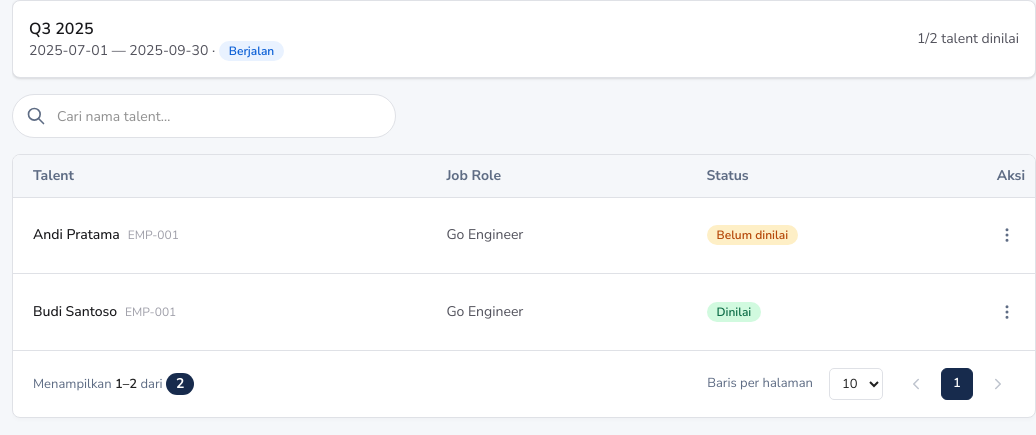
Test: EvaluationsPage roster (Apollo, US7) › renders the running period roster with fill-state badges and value links
The width and height of the screenshot is (1036, 435).
Check: the heading "Q3 2025" is shown, box [29,18,94,40]
Check: the text "Andi Pratama" is shown, box [33,225,120,244]
Click the button named "Aksi Andi Pratama".
click(1007, 235)  # box [989,217,1025,253]
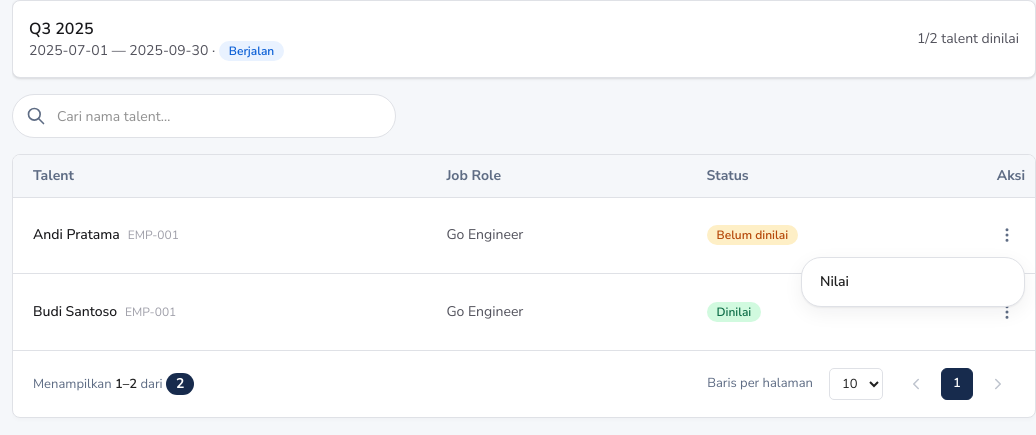
Check: the button "Nilai" is shown, box [808,264,1018,300]
Click the button named "Aksi Budi Santoso".
click(1007, 312)  # box [989,294,1025,330]
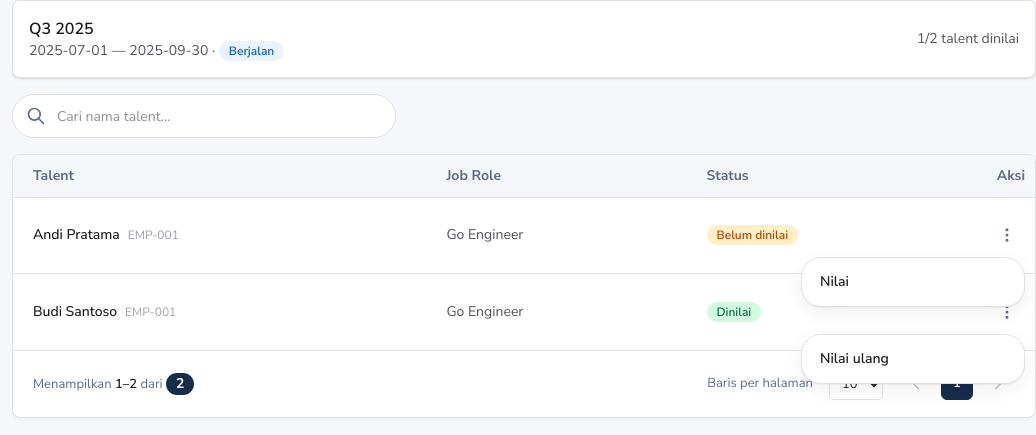
Check: the text "1/2 talent dinilai" is shown, box [917,29,1019,49]
Check: the button "Nilai ulang" is shown, box [808,341,1018,377]
